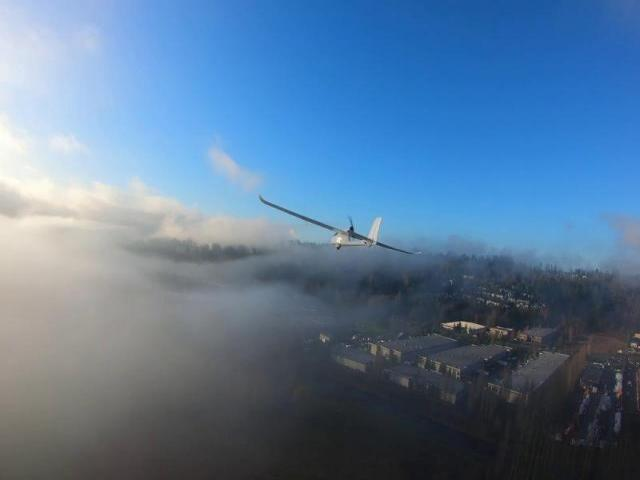hedef: (258, 180, 436, 302)
